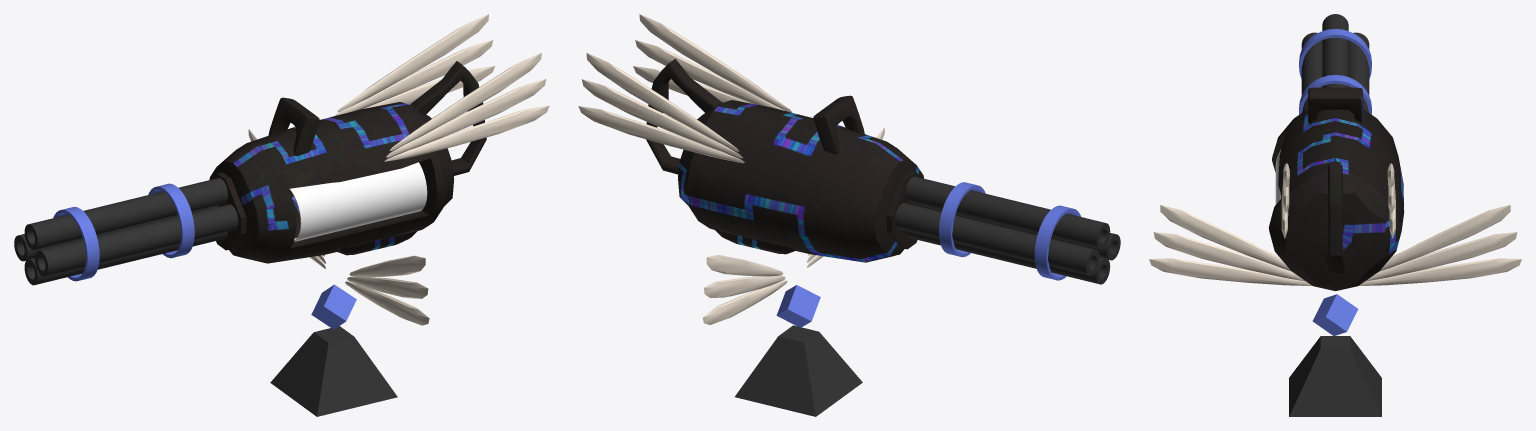
Rendered from Gatling_Gun_Model.fbx.
3 renders of one model, left to right at view 1: azimuth 30°, elevation 25°; view 2: azimuth 150°, elevation 25°; view 3: azimuth 270°, elevation 25°, orthographic.
Parts seen in each view (by area): view 1: Gun, Turret Base, Wings, Cube; view 2: Gun, Turret Base, Wings, Cube; view 3: Gun, Wings, Turret Base, Cube.
Boxes of the visible parts, bbox=[...] form: Gun: bbox=[14, 14, 549, 285]; Turret Base: bbox=[270, 326, 397, 416]; Wings: bbox=[248, 129, 429, 325]; Cube: bbox=[311, 284, 356, 329]; Gun: bbox=[578, 14, 1120, 284]; Turret Base: bbox=[735, 325, 862, 416]; Wings: bbox=[702, 127, 884, 324]; Cube: bbox=[776, 285, 820, 327]; Gun: bbox=[1268, 14, 1404, 290]; Wings: bbox=[1149, 205, 1521, 285]; Turret Base: bbox=[1289, 336, 1381, 416]; Cube: bbox=[1312, 294, 1358, 335].
Bounding box in the file's own units: 317 × 191 × 209.
Materials: 5 (1 with a texture image).
